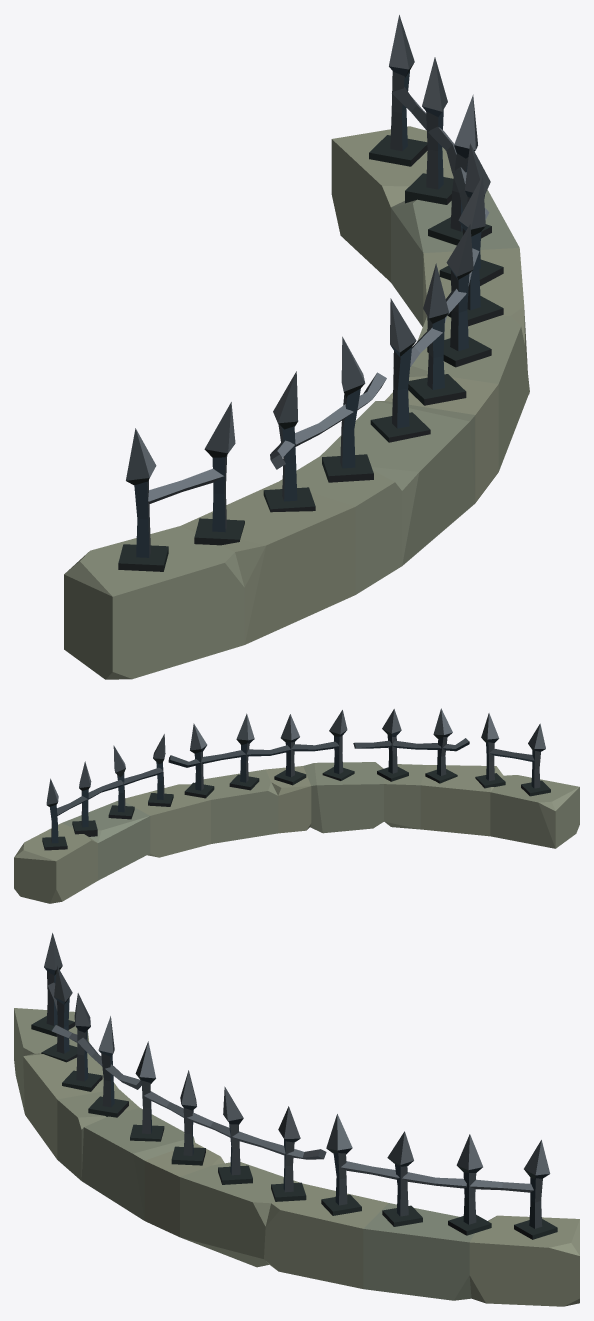
File: railing_round_corner_4x4_conv_metal_spikes.fbx
3 renders of one model, top to bottom at view 1: azimuth 30°, elevation 25°; view 2: azimuth 150°, elevation 25°; view 3: azimuth 270°, elevation 25°, orthographic. The views are drawn at different scales.
Visible parts, largest first — view 1: railing_round_corner_4x4_conv_metal_spikes; view 2: railing_round_corner_4x4_conv_metal_spikes; view 3: railing_round_corner_4x4_conv_metal_spikes.
Part boxes in pixels (bbox=[...]): railing_round_corner_4x4_conv_metal_spikes: bbox=[64, 15, 529, 679]; railing_round_corner_4x4_conv_metal_spikes: bbox=[14, 708, 579, 903]; railing_round_corner_4x4_conv_metal_spikes: bbox=[14, 933, 579, 1306].
Bounding box in the file's own units: 426 × 134 × 425.
